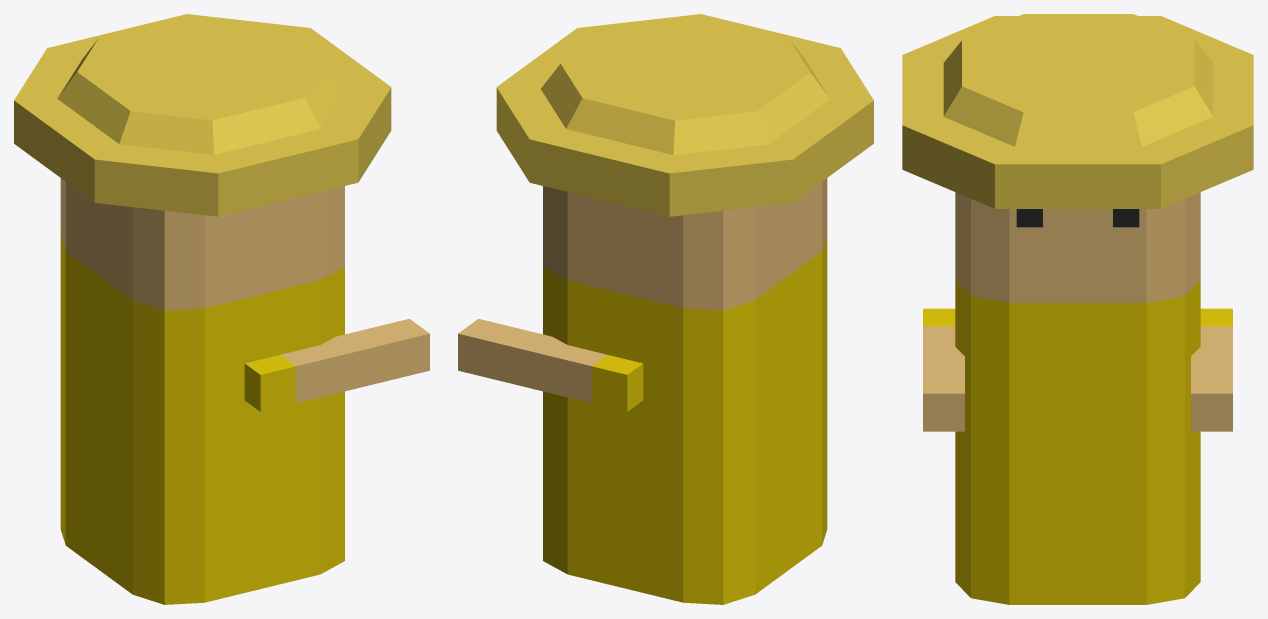
File: SunnyDude.fbx
3 renders of one model, left to right at view 1: azimuth 30°, elevation 25°; view 2: azimuth 150°, elevation 25°; view 3: azimuth 270°, elevation 25°, orthographic. The views are drawn at different scales.
Visible parts, largest first — view 1: Body, Cube, Cube.001; view 2: Body, Cube, Cube.001; view 3: Body, Cube.001, Cube.
Part boxes in pixels (x1,y1,x2,y2): Body: (60, 178, 429, 604); Cube: (14, 14, 391, 216); Cube.001: (57, 15, 346, 154); Body: (458, 178, 827, 604); Cube: (496, 14, 873, 216); Cube.001: (541, 15, 829, 155); Body: (923, 192, 1232, 604); Cube.001: (943, 14, 1213, 146); Cube: (902, 16, 1253, 208).
Bounding box in the file's own units: 243 × 369 × 240.
